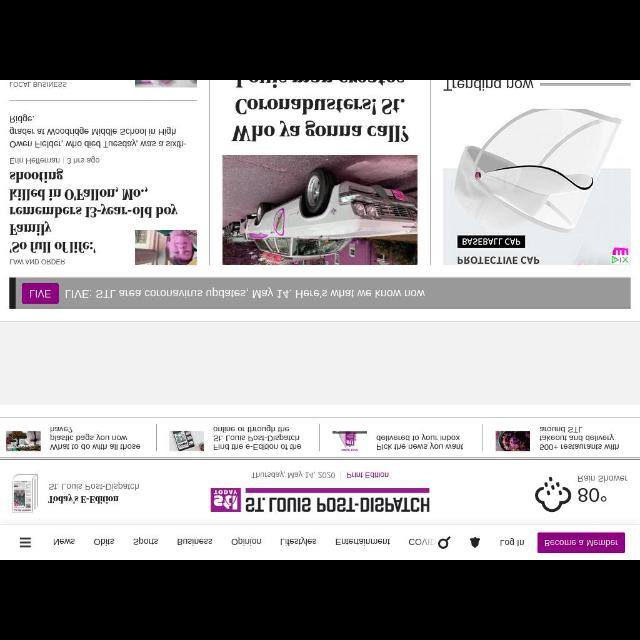button: (18, 534, 34, 550), (437, 534, 453, 550)
icon: (534, 476, 572, 512), (19, 536, 33, 550), (439, 536, 451, 548), (470, 536, 480, 548)
iframe: (442, 109, 628, 268)
image: (222, 154, 420, 266), (134, 230, 198, 266), (12, 473, 40, 512), (210, 486, 242, 514), (331, 430, 369, 452), (5, 430, 42, 452), (168, 430, 204, 452), (495, 431, 531, 452), (134, 80, 200, 90)
multitab: (51, 538, 437, 546)
panel: (1, 82, 640, 320)
text: (8, 168, 180, 254), (231, 80, 411, 142), (9, 113, 190, 149), (64, 286, 426, 300), (245, 496, 431, 512), (212, 424, 304, 452), (49, 427, 143, 451), (540, 424, 620, 450), (376, 433, 466, 451), (251, 470, 391, 480), (444, 81, 538, 92), (48, 481, 140, 492), (9, 155, 101, 165), (48, 494, 120, 504), (544, 540, 620, 548), (9, 81, 67, 89), (334, 538, 390, 546), (578, 487, 606, 503), (10, 258, 66, 266), (280, 536, 318, 546), (176, 538, 214, 546), (578, 476, 628, 482), (133, 536, 159, 546), (499, 537, 525, 547), (232, 536, 262, 544), (28, 288, 52, 298), (94, 536, 116, 546), (52, 538, 76, 546), (408, 539, 436, 545)
textbutton: (538, 532, 626, 554)
toolbar: (1, 526, 639, 558)
